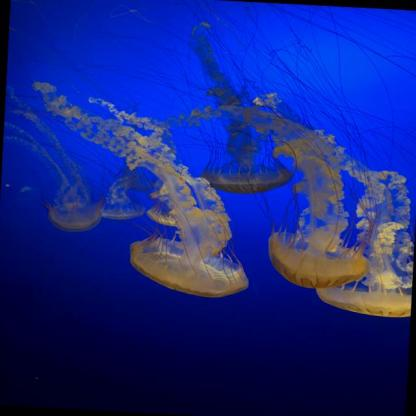jellyfish: (127, 236, 252, 300), (267, 230, 373, 291), (314, 285, 411, 319), (200, 161, 294, 196), (45, 200, 102, 234), (99, 204, 148, 220), (145, 208, 183, 228)
